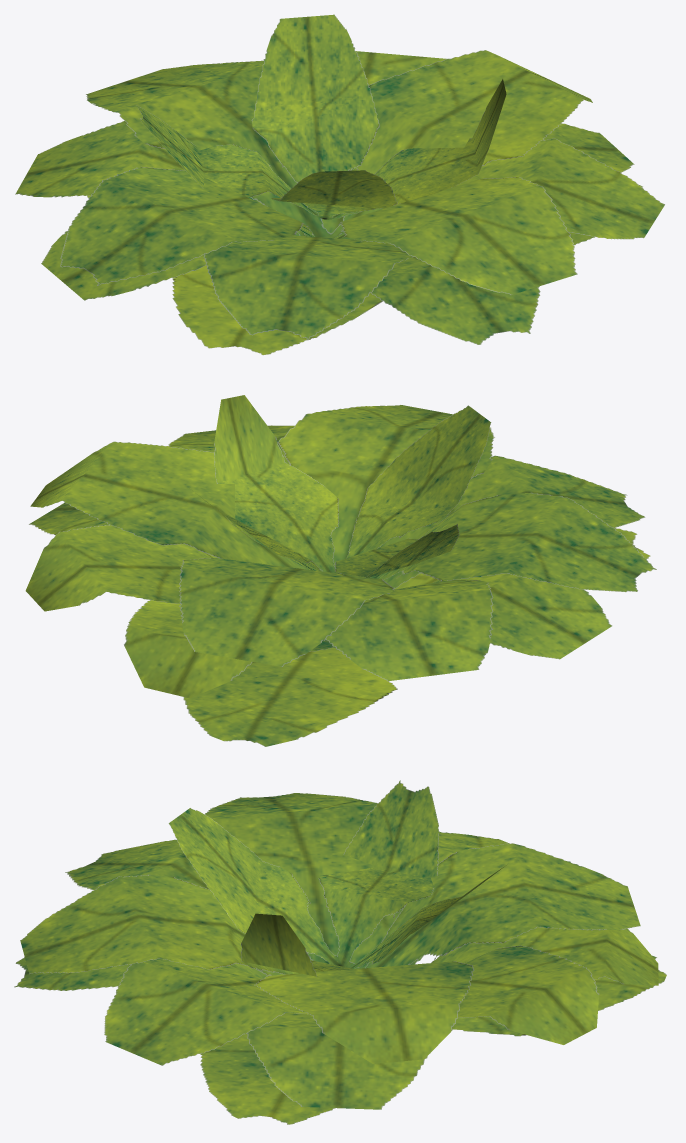
Rendered from Terrain_Grass_06.fbx.
3 renders of one model, top to bottom at view 1: azimuth 30°, elevation 25°; view 2: azimuth 150°, elevation 25°; view 3: azimuth 270°, elevation 25°, orthographic. The views are drawn at different scales.
Parts seen in each view (by area): view 1: Grass_06; view 2: Grass_06; view 3: Grass_06.
Boxes of the visible parts, <box> form: Grass_06: <box>15,14,664,355</box>; Grass_06: <box>25,395,656,746</box>; Grass_06: <box>14,780,666,1124</box>.
Bounding box in the file's own units: 0.00539 × 0.00175 × 0.00535.
